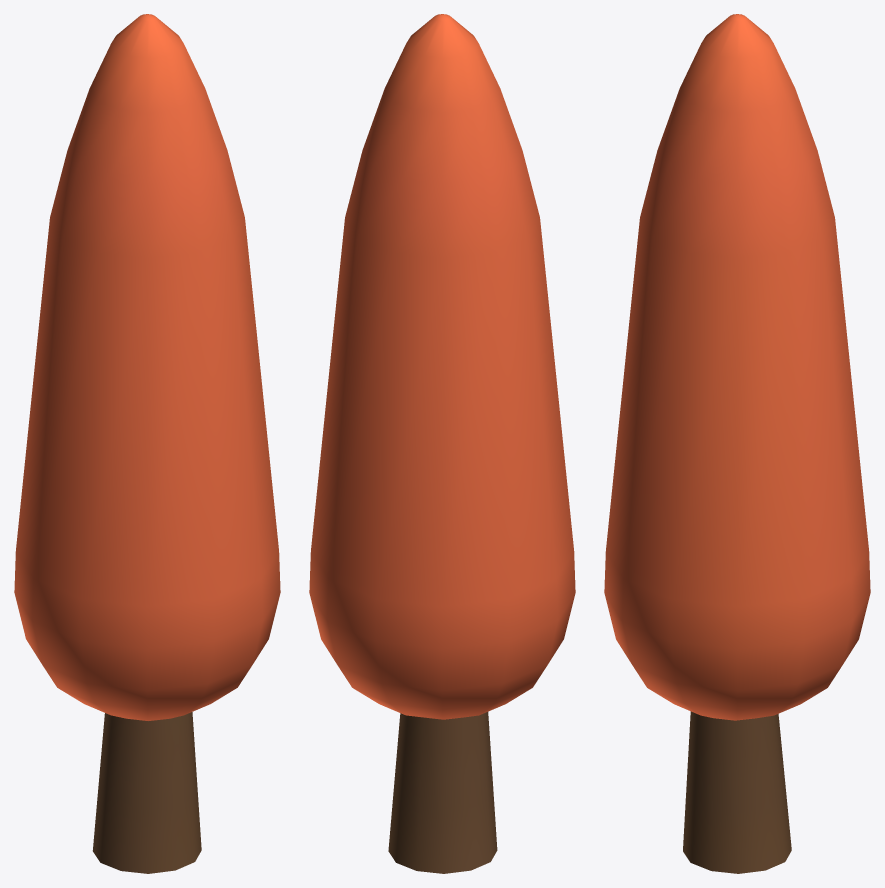
File: tree-08.glb
3 views of the same model, side by side, from view 1: azimuth 30°, elevation 25°; view 2: azimuth 150°, elevation 25°; view 3: azimuth 270°, elevation 25° (orthographic).
Visible parts, largest first — view 1: tree 08; view 2: tree 08; view 3: tree 08.
Boxes of the visible parts, bbox=[...] form: tree 08: bbox=[14, 14, 280, 873]; tree 08: bbox=[309, 14, 575, 873]; tree 08: bbox=[604, 14, 870, 873].
Bounding box in the file's own units: 1.08 × 3.75 × 1.08.
Materials: 1 (1 with a texture image).
